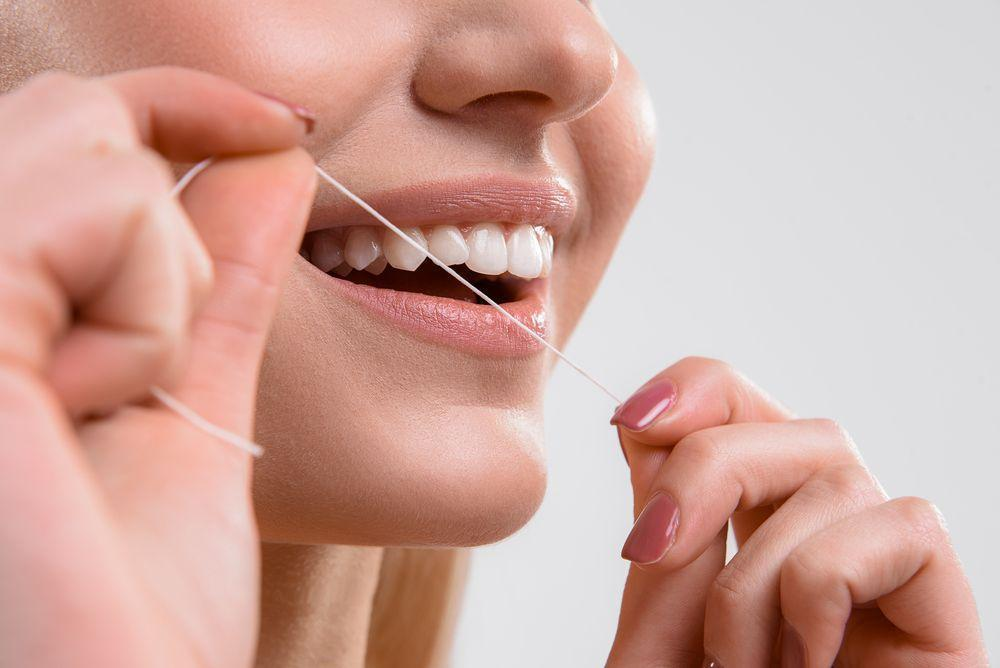normal: (328, 223, 388, 279), (424, 218, 474, 282), (374, 222, 429, 278), (462, 221, 512, 280), (504, 224, 547, 286), (302, 222, 342, 278), (533, 229, 573, 273)
